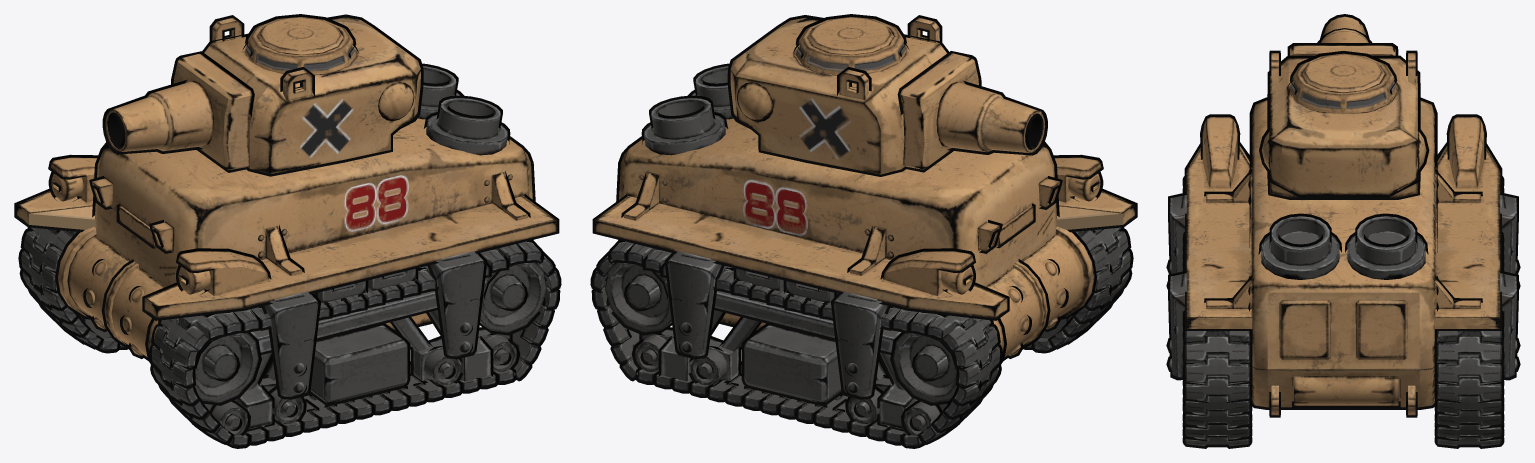
3 views of the same model, side by side, from view 1: azimuth 30°, elevation 25°; view 2: azimuth 150°, elevation 25°; view 3: azimuth 270°, elevation 25° (orthographic). The views are drawn at different scales.
Parts seen in each view (by area): view 1: Object002_yey_0, Cylinder003, Object001_black_0, Cylinder002; view 2: Object002_yey_0, Cylinder003, Object001_black_0, Cylinder002; view 3: Object002_yey_0, Cylinder003, Object001_black_0, Cylinder002.
Boxes of the visible parts, bbox=[...] form: Object002_yey_0: bbox=[16, 18, 558, 445]; Cylinder003: bbox=[58, 17, 532, 356]; Object001_black_0: bbox=[14, 15, 561, 448]; Cylinder002: bbox=[55, 14, 535, 364]; Object002_yey_0: bbox=[593, 18, 1135, 445]; Cylinder003: bbox=[619, 17, 1094, 356]; Object001_black_0: bbox=[590, 15, 1137, 448]; Cylinder002: bbox=[616, 14, 1096, 364]; Object002_yey_0: bbox=[1169, 53, 1517, 446]; Cylinder003: bbox=[1252, 16, 1434, 407]; Object001_black_0: bbox=[1166, 50, 1520, 448]; Cylinder002: bbox=[1249, 14, 1437, 409].
Size of the model in its own units: 98.76 by 75.01 by 76.24.
2 materials, 1 textured.
